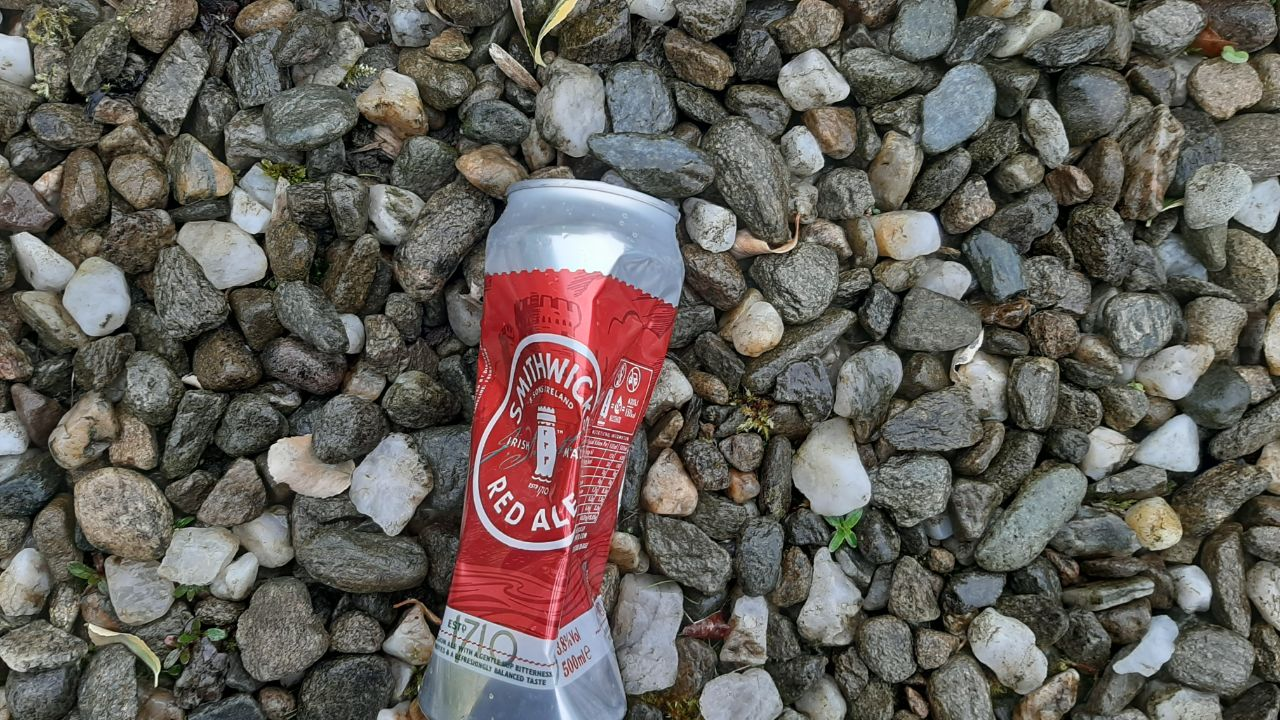Can: (417, 180, 690, 720)
